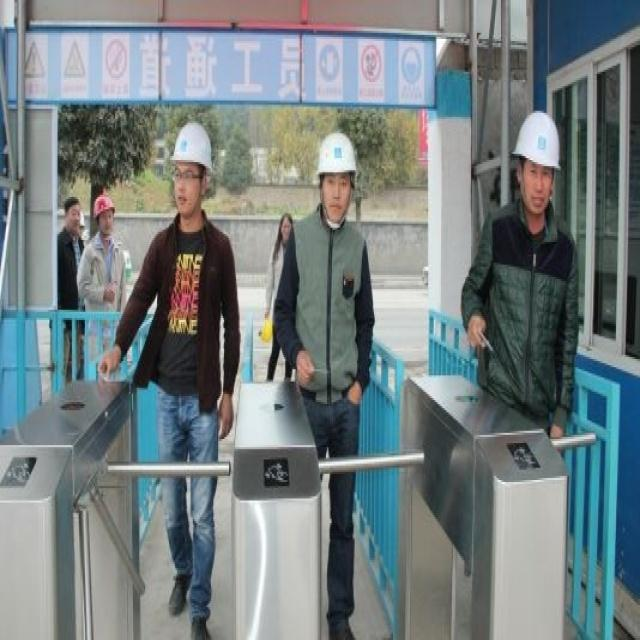helmet: (513, 148, 563, 291), (170, 156, 213, 299), (317, 175, 355, 302), (93, 255, 116, 312), (64, 258, 81, 310), (277, 282, 293, 326)
